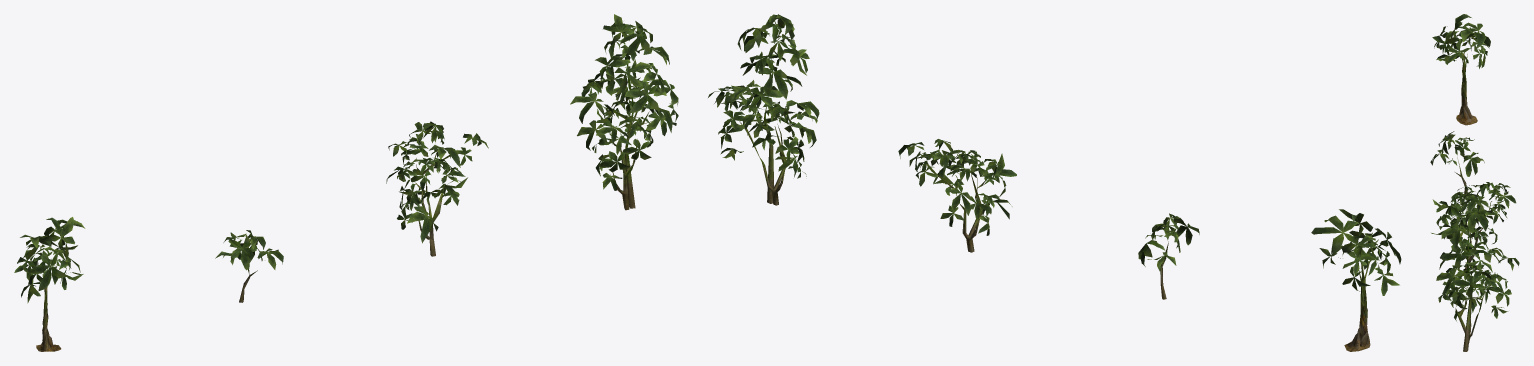
Rendered from pachira_aquatica_01.glb.
The picture shows the model from 3 angles, left to right: view 1: azimuth 30°, elevation 25°; view 2: azimuth 150°, elevation 25°; view 3: azimuth 270°, elevation 25°; orthographic projection. The views are drawn at different scales.
Parts seen in each view (by area): view 1: pachira_aquatica_01_leaves_a, pachira_aquatica_01_bark_a; view 2: pachira_aquatica_01_leaves_a, pachira_aquatica_01_bark_a; view 3: pachira_aquatica_01_leaves_a, pachira_aquatica_01_bark_a.
Part boxes in pixels (x1=…): pachira_aquatica_01_leaves_a: x1=14, y1=14, x2=678, y2=303; pachira_aquatica_01_bark_a: x1=36, y1=54, x2=651, y2=351; pachira_aquatica_01_leaves_a: x1=708, y1=14, x2=1401, y2=295; pachira_aquatica_01_bark_a: x1=739, y1=55, x2=1370, y2=351; pachira_aquatica_01_leaves_a: x1=1430, y1=14, x2=1519, y2=321; pachira_aquatica_01_bark_a: x1=1454, y1=50, x2=1496, y2=351.
Bounding box in the file's own units: 6.87 × 1.89 × 0.9825.
Materials: 2 (2 with a texture image).
